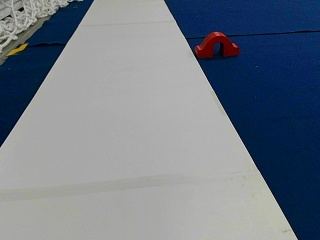bridge: (196, 32, 239, 56)
